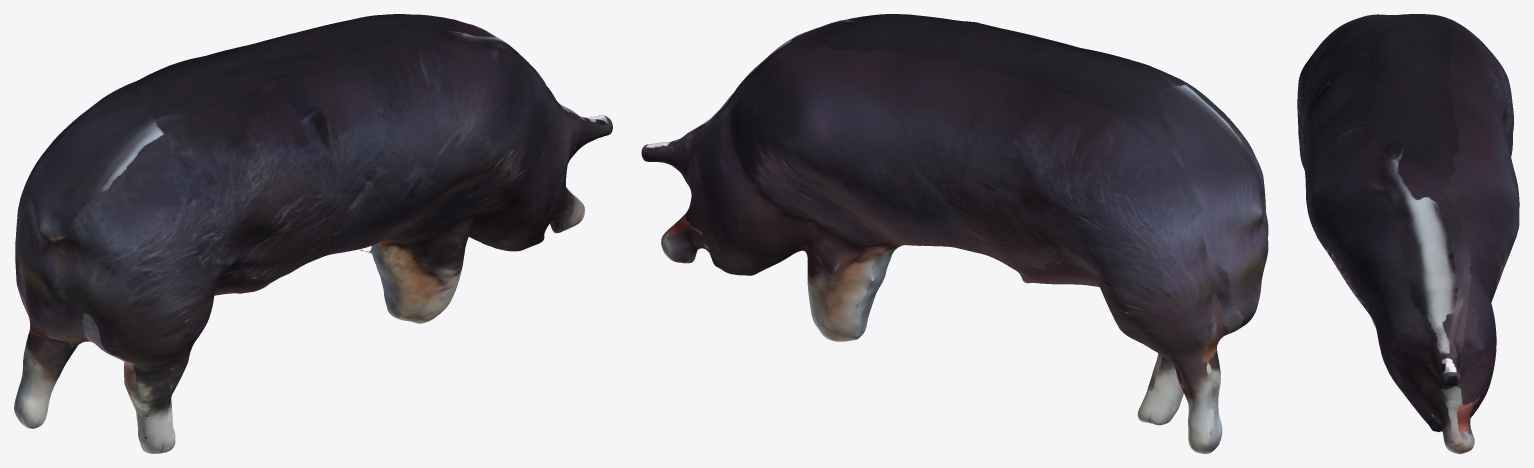
File: adulto.glb
3 renders of one model, left to right at view 1: azimuth 30°, elevation 25°; view 2: azimuth 150°, elevation 25°; view 3: azimuth 270°, elevation 25°, orthographic. The views are drawn at different scales.
Parts seen in each view (by area): view 1: mesh; view 2: mesh; view 3: mesh.
Boxes of the visible parts, box(x1,y1,x2,y2) form: mesh: box(14, 14, 612, 453); mesh: box(641, 14, 1268, 453); mesh: box(1297, 14, 1519, 453).
Size of the model in its own units: 1.85 by 1.05 by 0.6452.
1 material, 1 textured.
